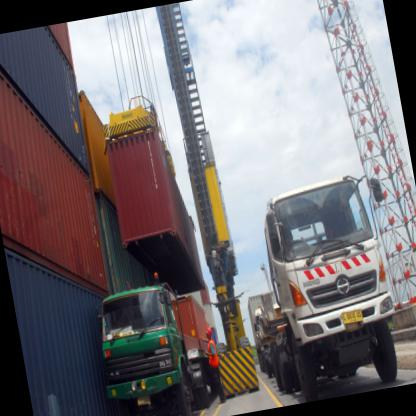truck: (258, 171, 410, 402), (92, 280, 201, 416)
